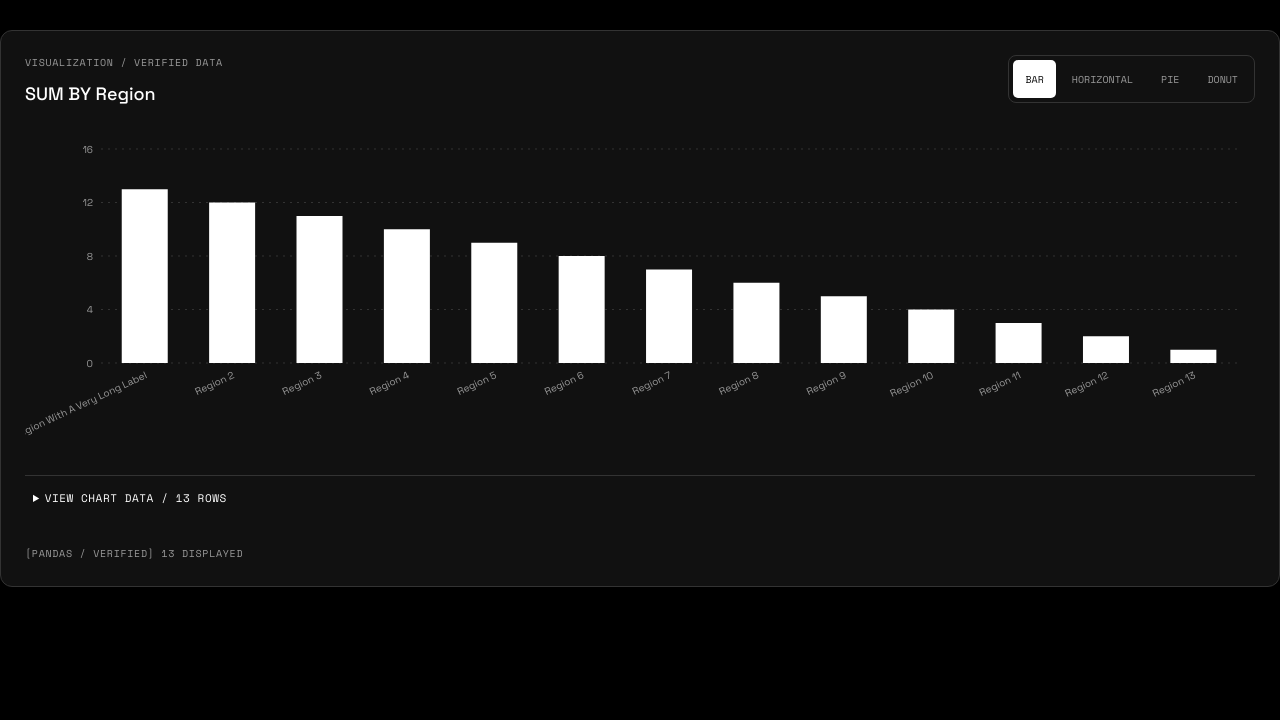
Test case: VerifiedChart interactions › shows grouped Other values for pie charts
Click the button "PIE" at (1170, 79), box top-left (1149, 60), bottom-right (1191, 98)
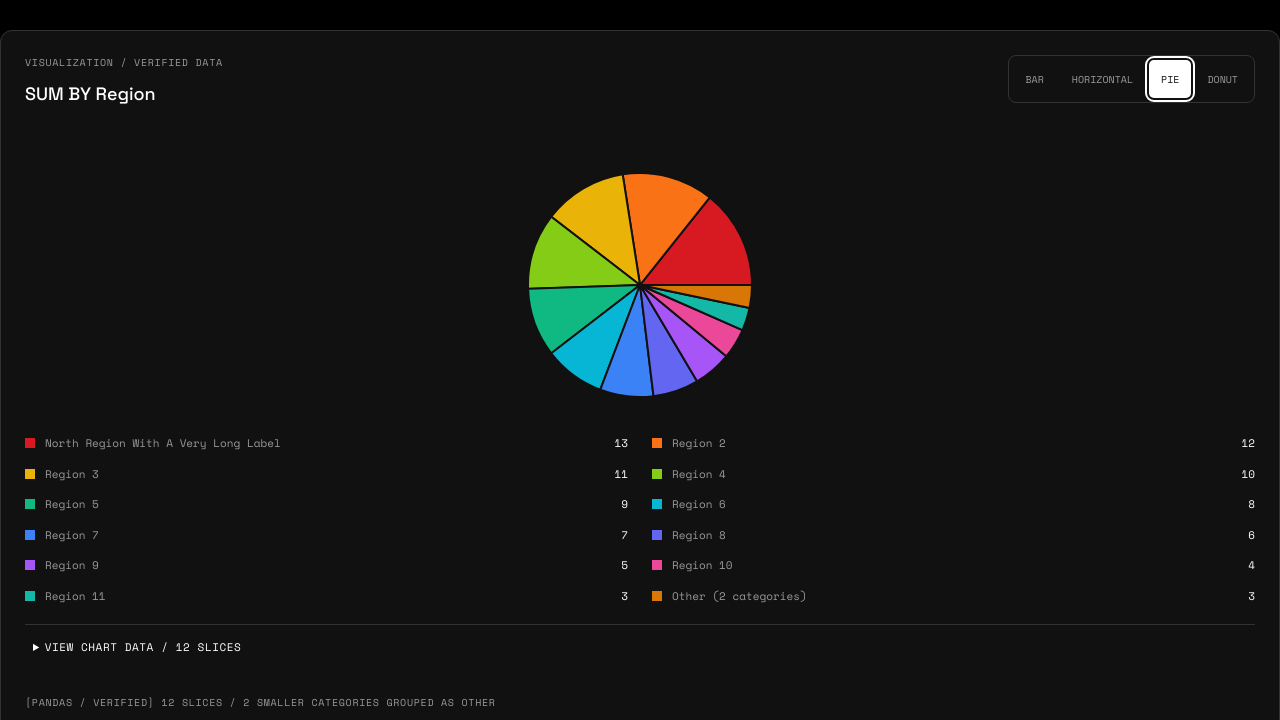
Expected: the element showing "VIEW CHART DATA / 12 SLICES" is shown, top-left (25, 624), bottom-right (1255, 670)
